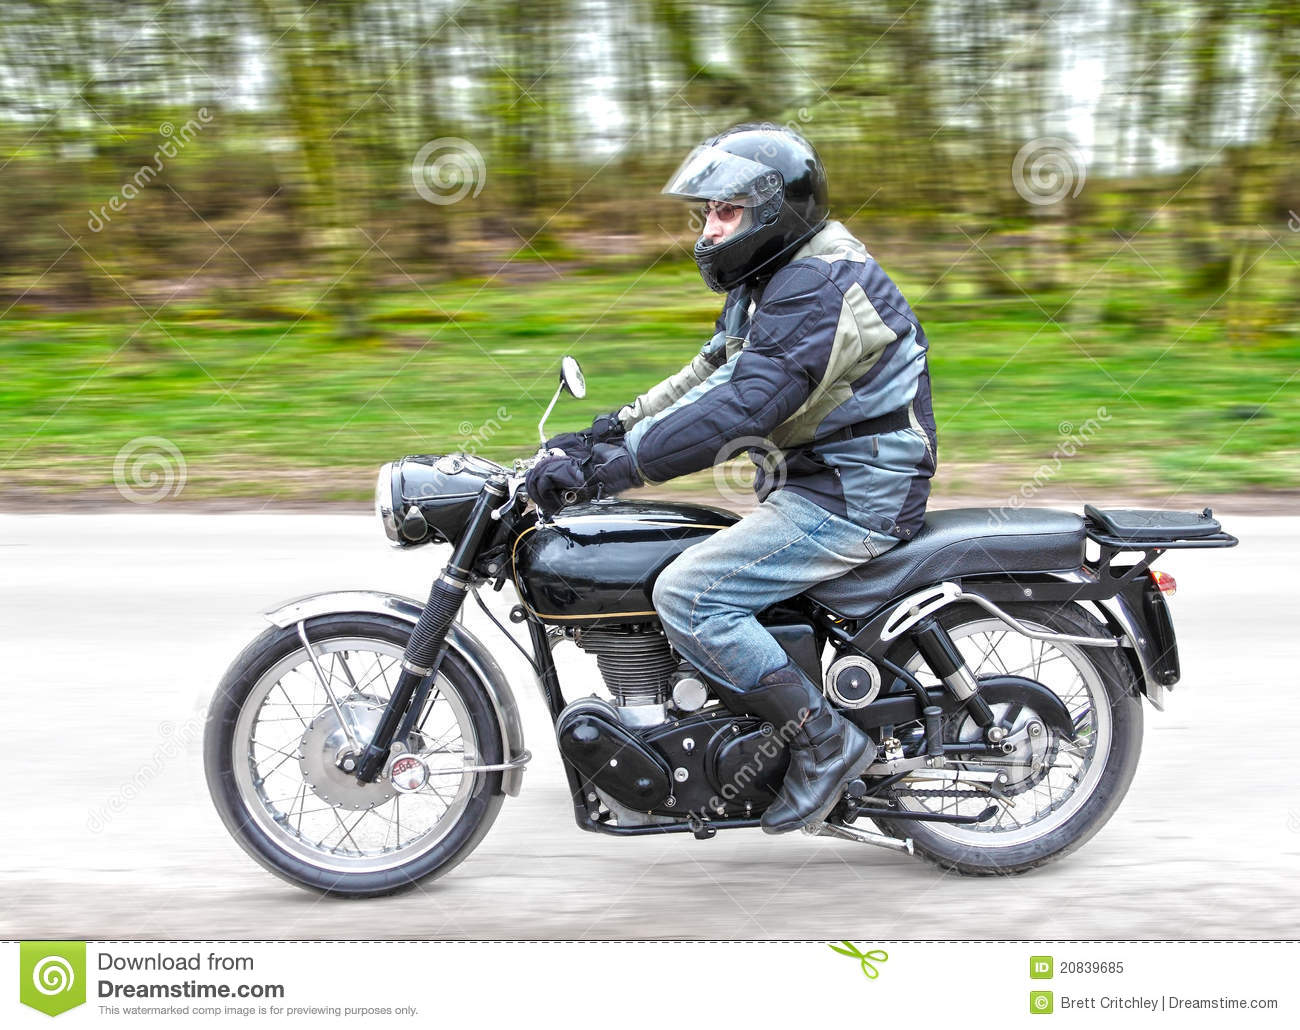helmet: (670, 128, 850, 298)
